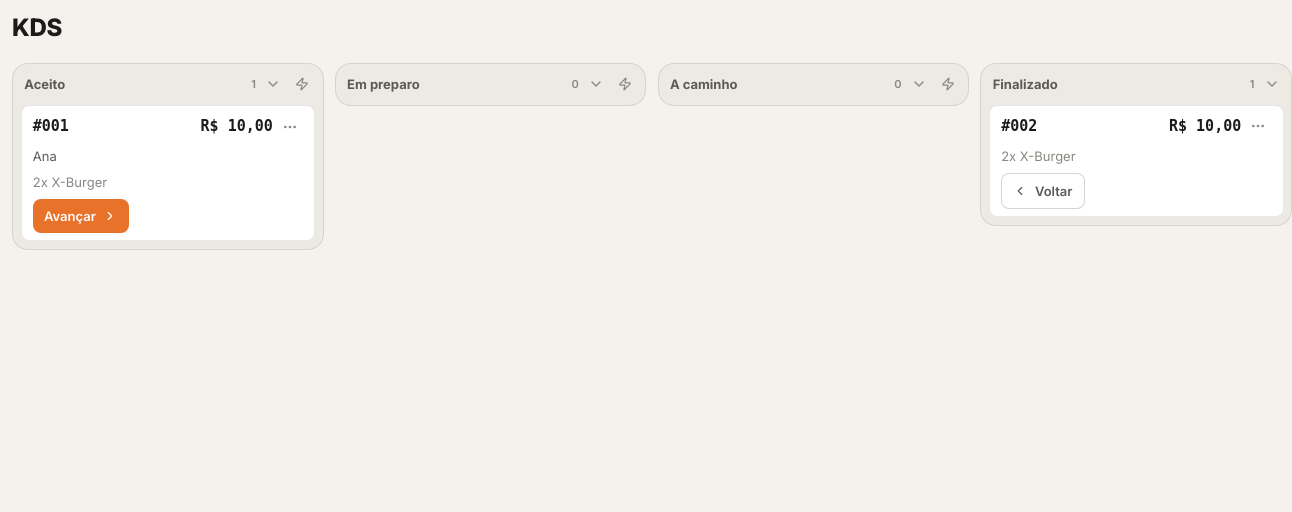
KdsPage collapsible stages › hides the cards of a stage collapsed by its title
Click the button with aria-label "Recolher etapa Aceito" at point(45, 84), box [20,71,285,97]
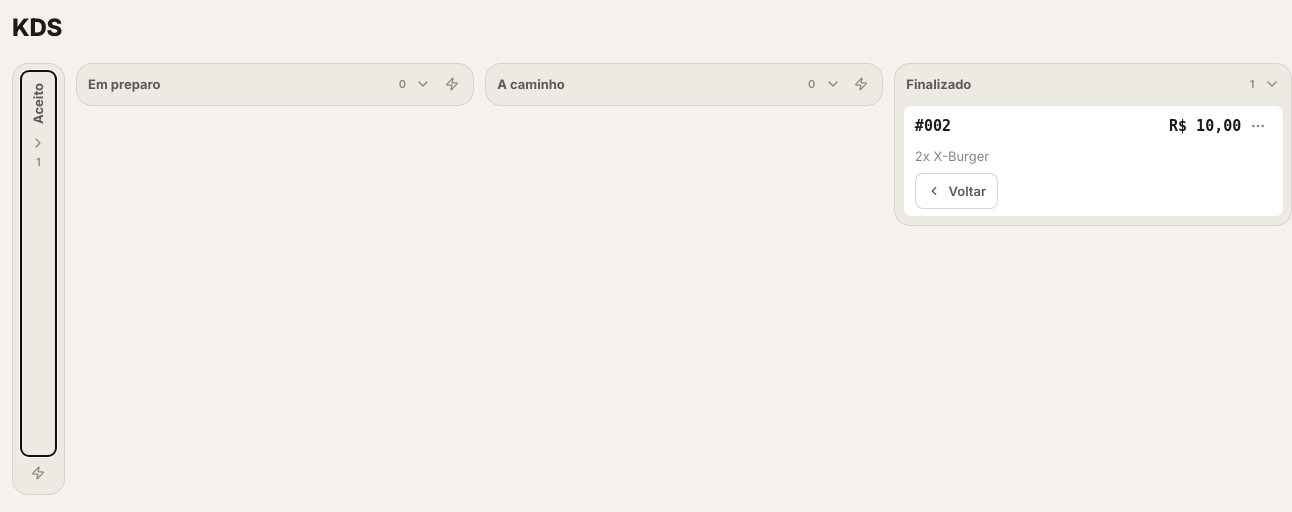
Expected: the text "#002" is shown, [915,115,951,138]
Expected: the text "#001" is gone
